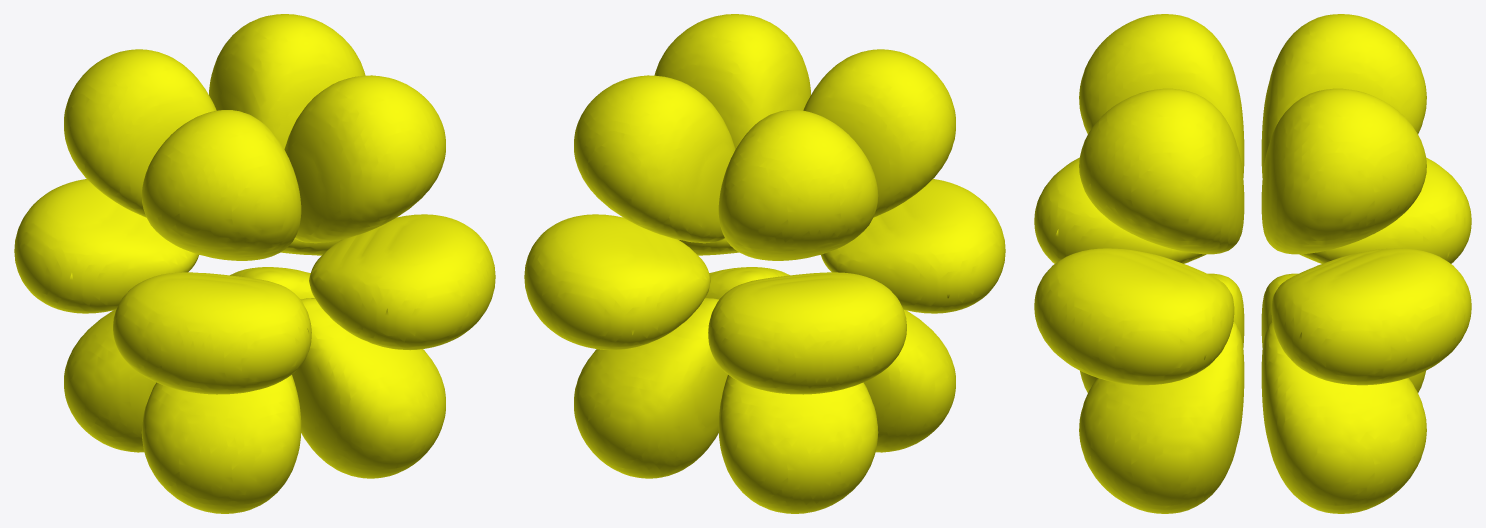
Rendered from orb_n=5_ l=4 _m=-2.fbx.
3 views of the same model, side by side, from view 1: azimuth 30°, elevation 25°; view 2: azimuth 150°, elevation 25°; view 3: azimuth 270°, elevation 25° (orthographic). The views are drawn at different scales.
Visible parts, largest first — view 1: orb_n=5_ l=4 _m=-2; view 2: orb_n=5_ l=4 _m=-2; view 3: orb_n=5_ l=4 _m=-2.
Boxes of the visible parts, x1,y1,x2,y2 form: orb_n=5_ l=4 _m=-2: (14,14,495,513); orb_n=5_ l=4 _m=-2: (524,14,1005,513); orb_n=5_ l=4 _m=-2: (1034,14,1471,513).
Size of the model in its own units: 7907 by 8199 by 7907.
